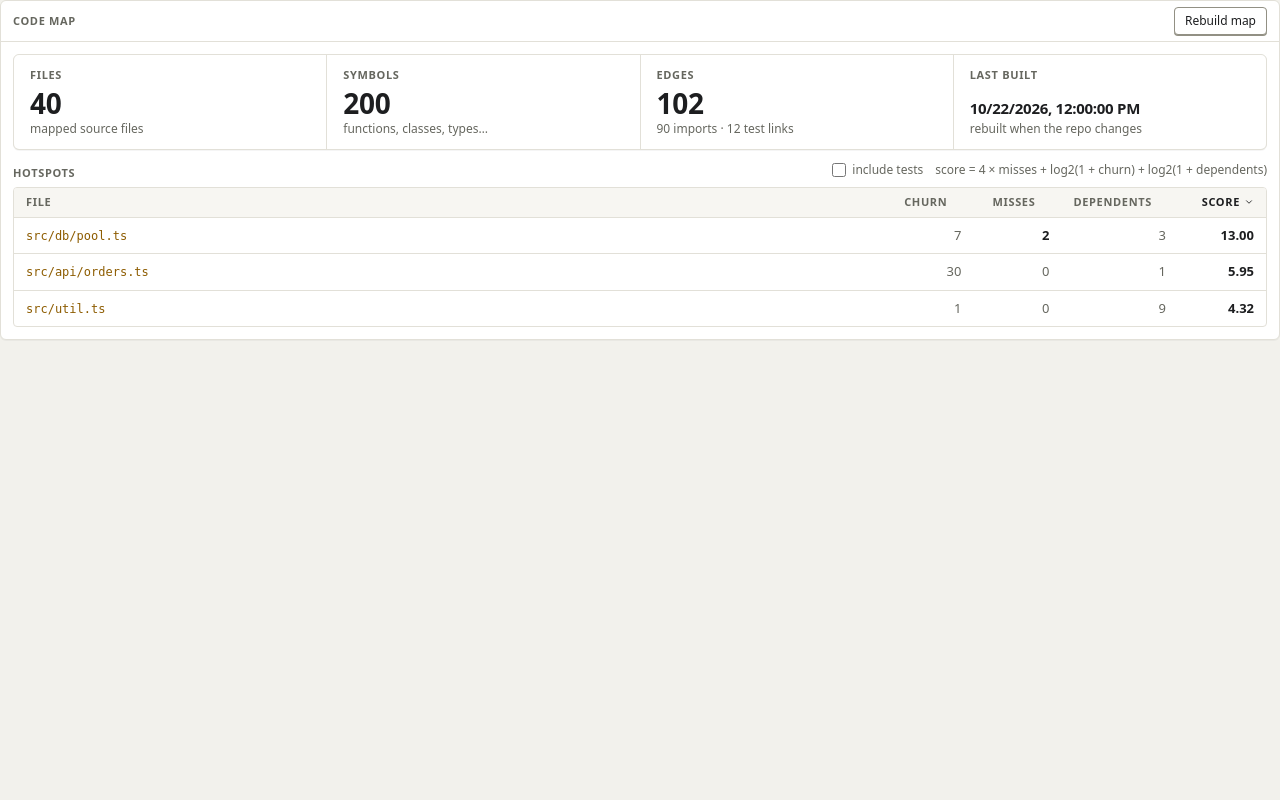
a file no scan fact cites does not claim the project has no facts
Click the button "src/db/pool.ts". click: [77, 236]
box: [26,226,127,244]
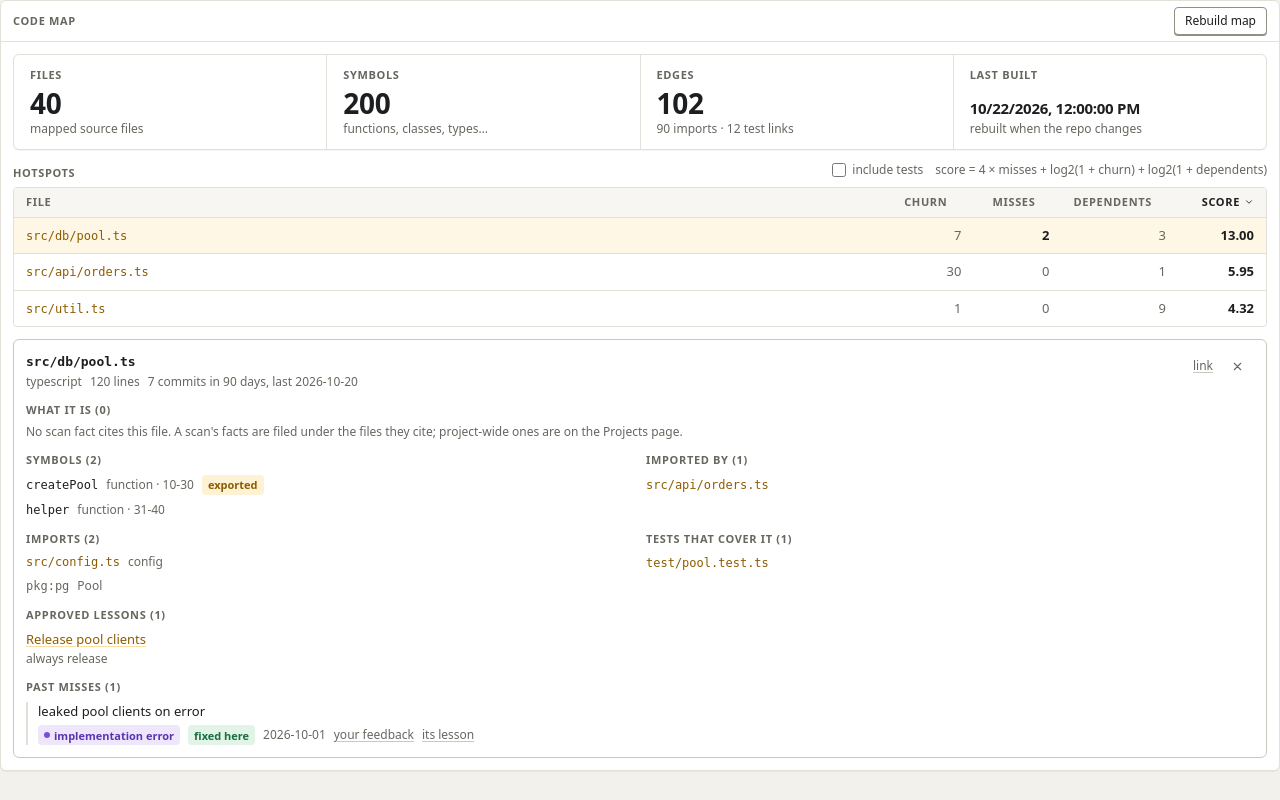
Now the text "createPool" is shown, box [26,476,98,494]
Now the text "No scan fact cites this file" is shown, box [26,423,683,440]
